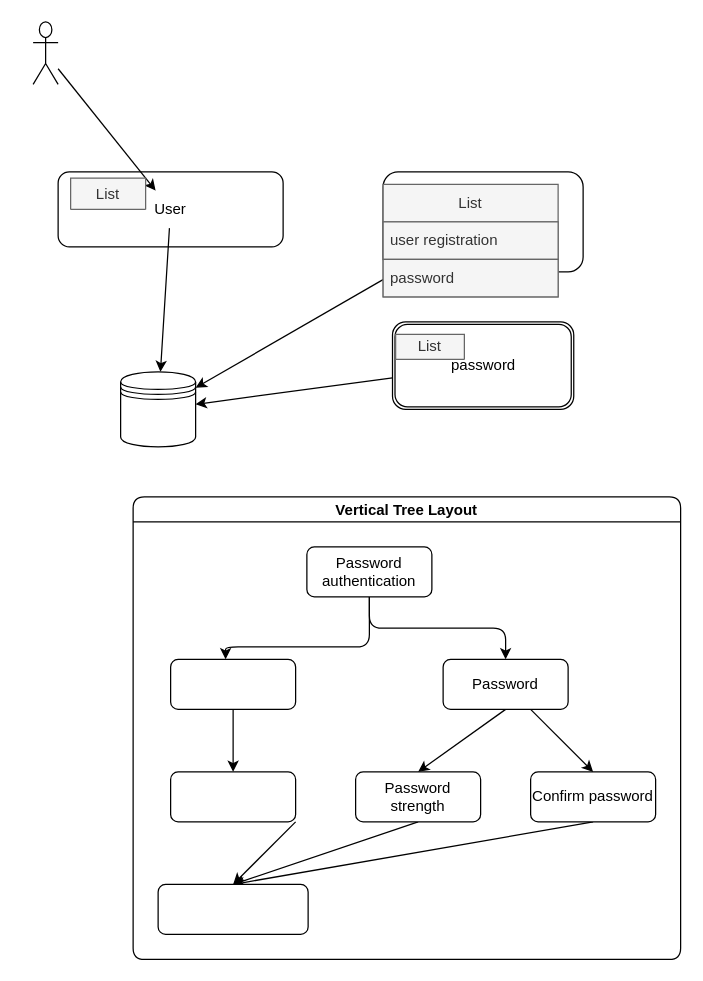
The diagram is 703 pixels wide and 981 high, and some of its shapes have lost their labels. The centre of each missing label's shape, as x and y in pixels:
Check bot or not: (232,796)
If all conditions are true,enter the app: (232,908)
Person: (45,52)
User auth: (232,683)
